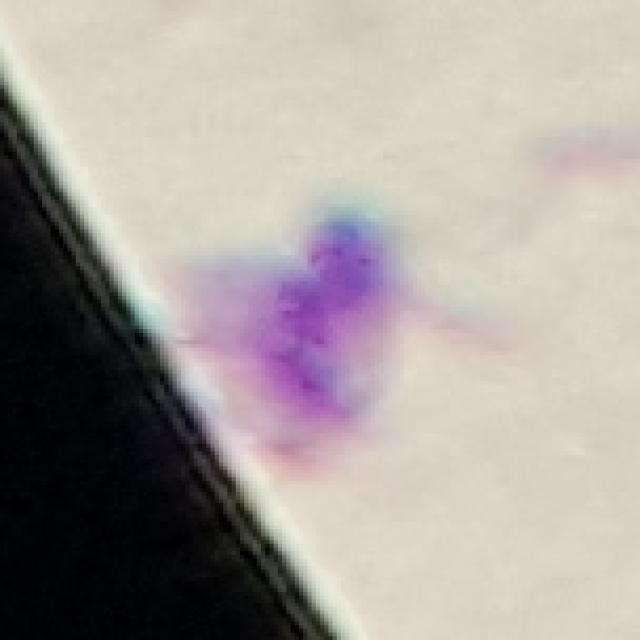non-sperm: (242, 207, 392, 427)
